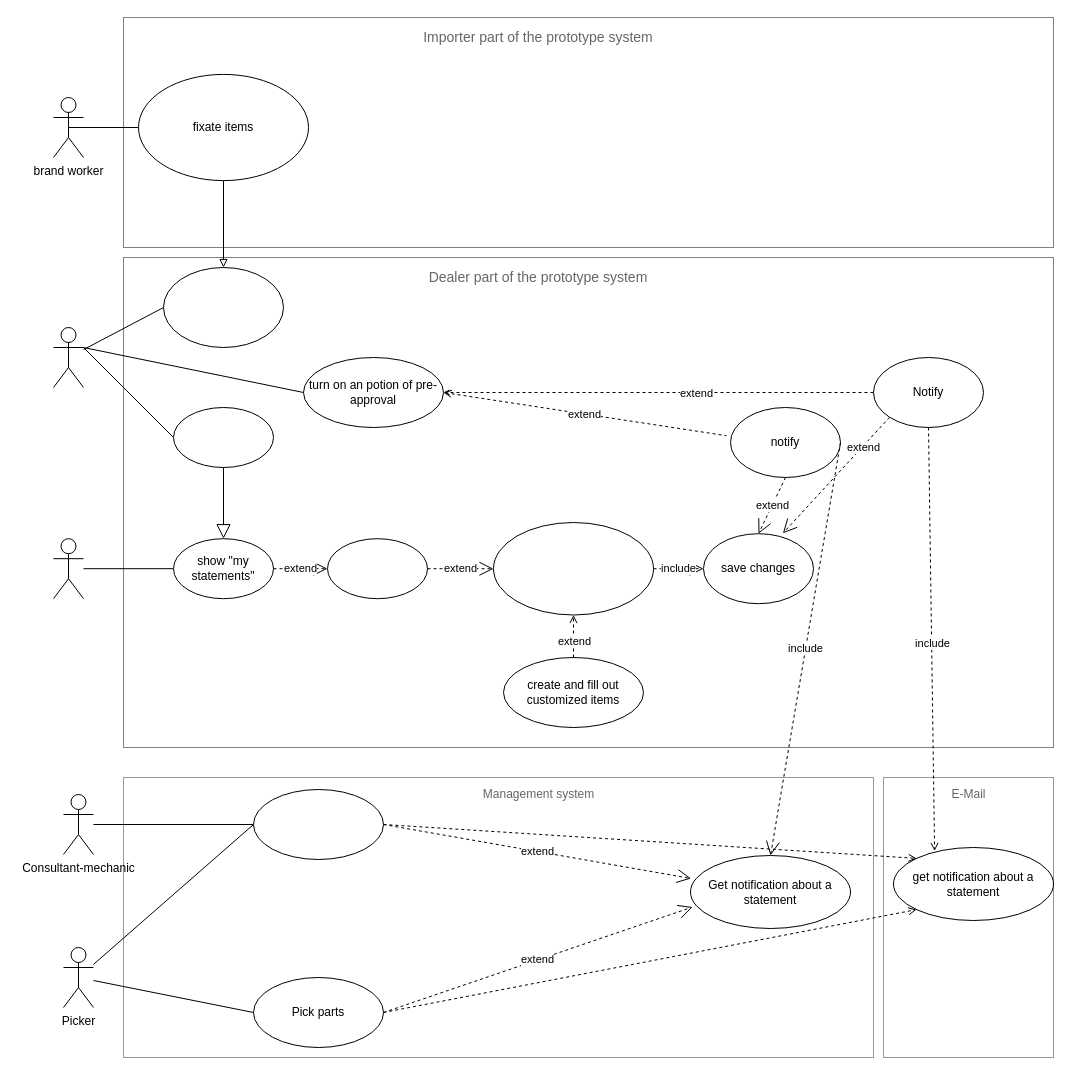
This 1071x1075 diagram has some shape labels left out. The centre of each missing label's shape, as x and y in pixels:
add new items to the fixated ones: point 223,307
fill out a statement: point 573,568
Manager mechanic: point 68,357
Mechanic: point 68,568
pick a template: point 377,568
Pick packages/labors: point 318,824
show "all statements": point 223,437
